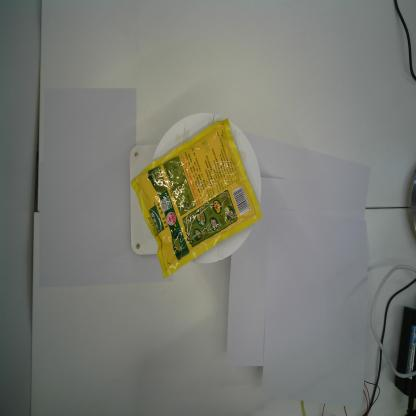Seasoner: (130, 115, 263, 281)
